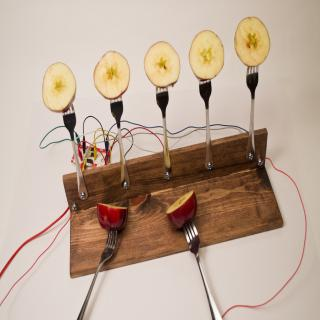Apple: (92, 50, 130, 100), (188, 28, 225, 78), (234, 17, 270, 68), (41, 63, 77, 113), (144, 40, 180, 86), (166, 189, 198, 232), (96, 204, 130, 232)
